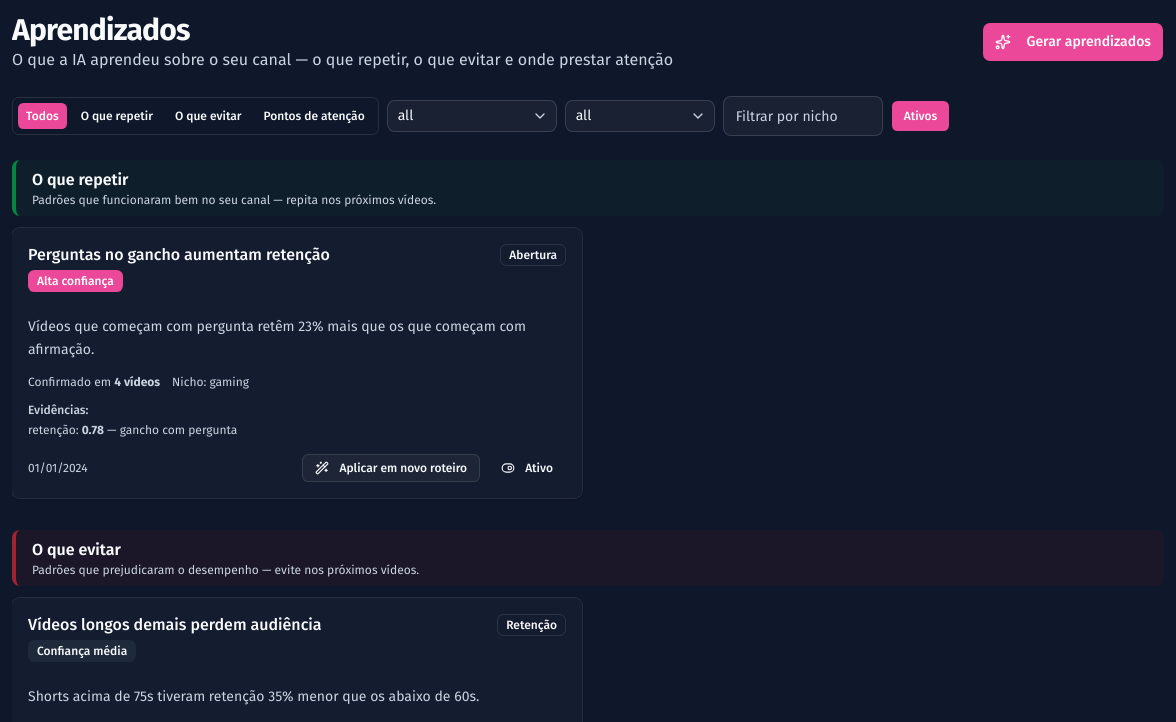
Test: Insights Page › 6. filtro 'O que evitar' exibe somente insights negativos
Click the button with test id "insights-group-negative" at (208, 116), box [166, 102, 250, 130]
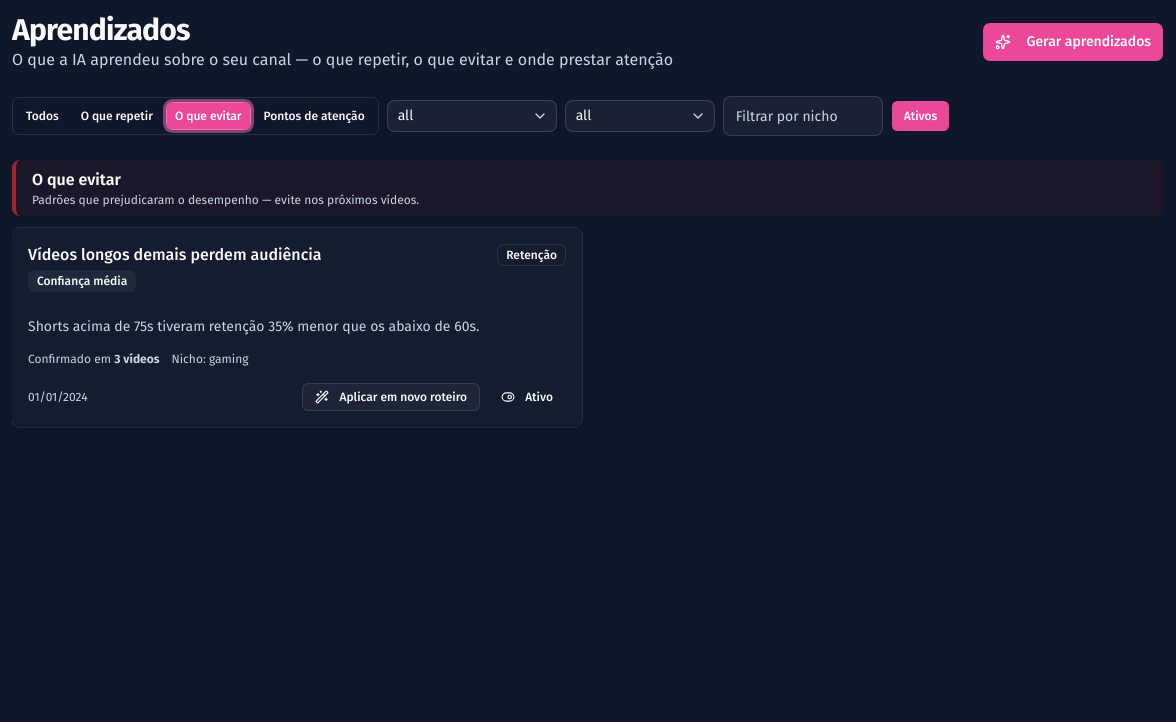
Expected: the number of elements with test id "insight-card" is 1, [12, 228, 582, 427]
